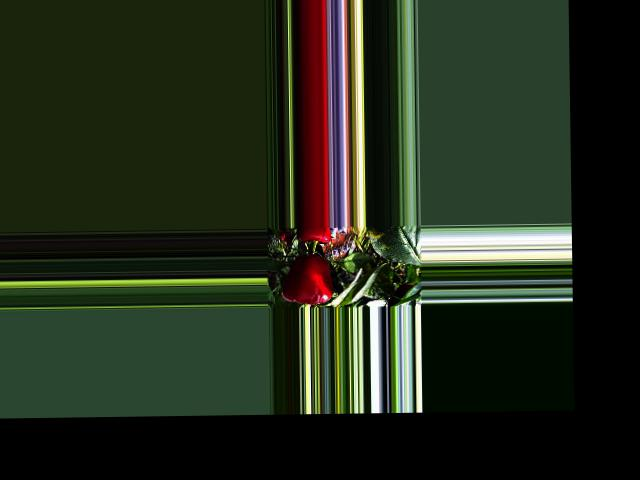bell_pepper: (294, 225, 335, 247)
